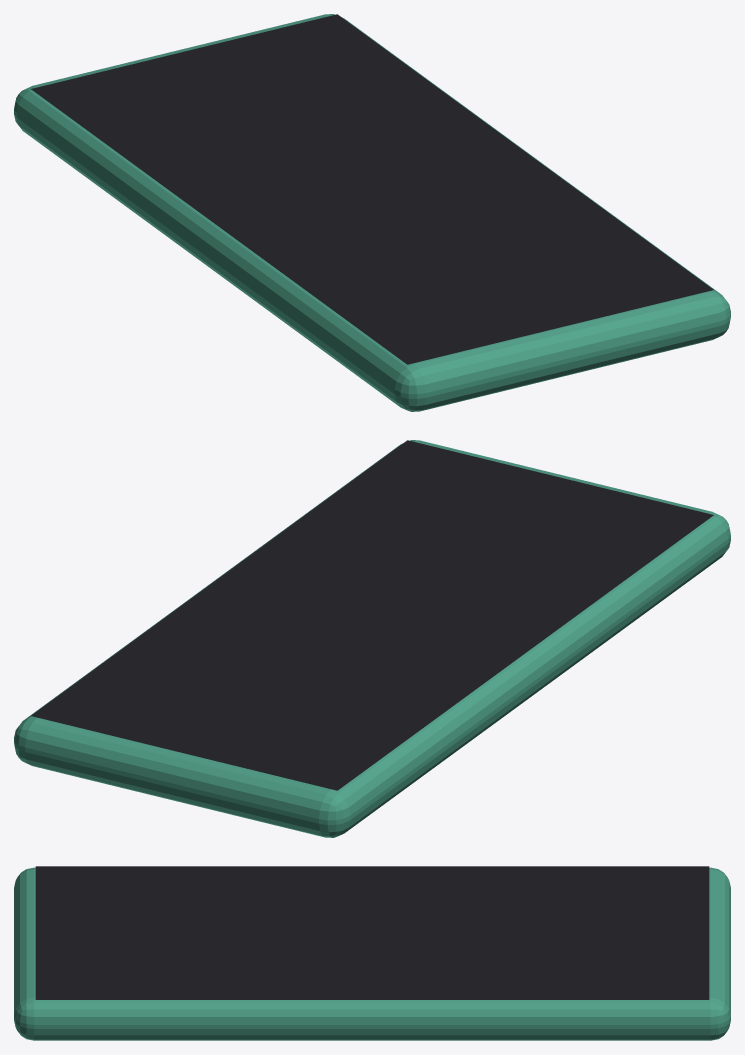
The model's file is Phone_86.glb.
3 views of the same model, one above another, from view 1: azimuth 30°, elevation 25°; view 2: azimuth 150°, elevation 25°; view 3: azimuth 270°, elevation 25° (orthographic). The views are drawn at different scales.
Parts seen in each view (by area): view 1: Phone_Screen, Phone_Body; view 2: Phone_Screen, Phone_Body; view 3: Phone_Screen, Phone_Body.
Part boxes in pixels (x1,y1,x2,y2): Phone_Screen: (31, 14, 713, 364); Phone_Body: (14, 14, 730, 411); Phone_Screen: (31, 440, 713, 790); Phone_Body: (14, 440, 730, 837); Phone_Screen: (35, 866, 709, 999); Phone_Body: (14, 867, 730, 1040).
Size of the model in its own units: 0.0758 by 0.0101 by 0.1578.
